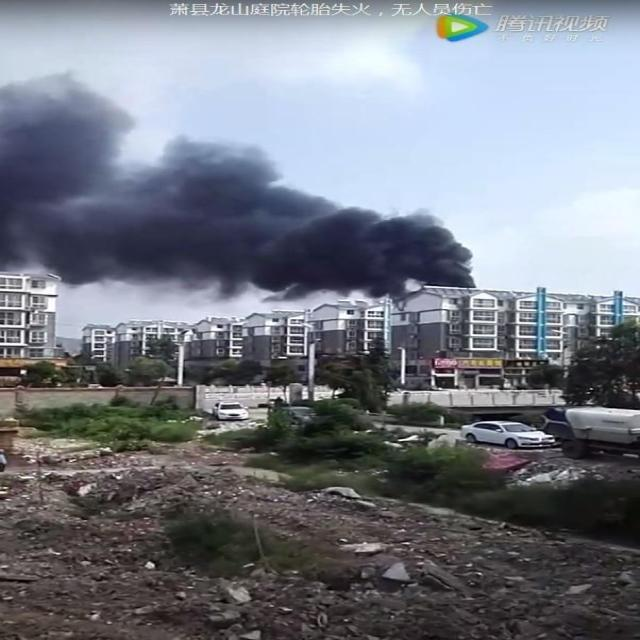Smoke: (1, 71, 477, 302)
